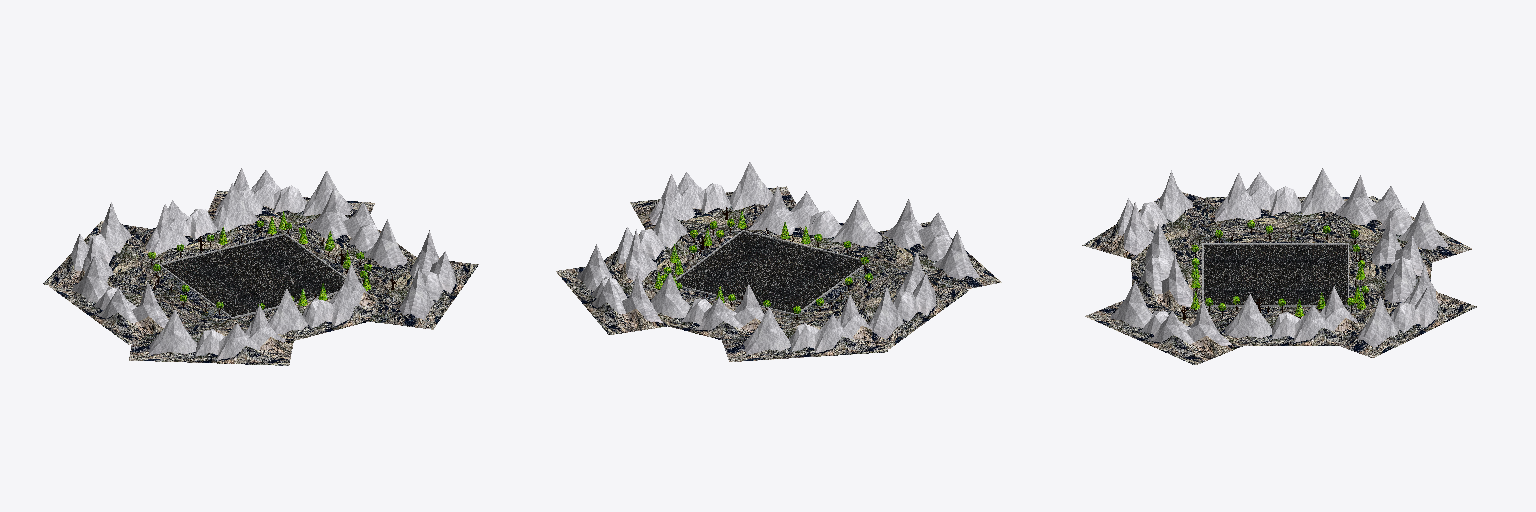
3 views of the same model, side by side, from view 1: azimuth 30°, elevation 25°; view 2: azimuth 150°, elevation 25°; view 3: azimuth 270°, elevation 25° (orthographic).
Parts seen in each view (by area): view 1: polySurface2; view 2: polySurface2; view 3: polySurface2.
Boxes of the visible parts, x1,y1,x2,y2 form: polySurface2: [43, 168, 478, 365]; polySurface2: [556, 162, 1001, 361]; polySurface2: [1082, 168, 1476, 364].
Size of the model in its own units: 863 by 98.74 by 818.
5 materials, 4 textured.